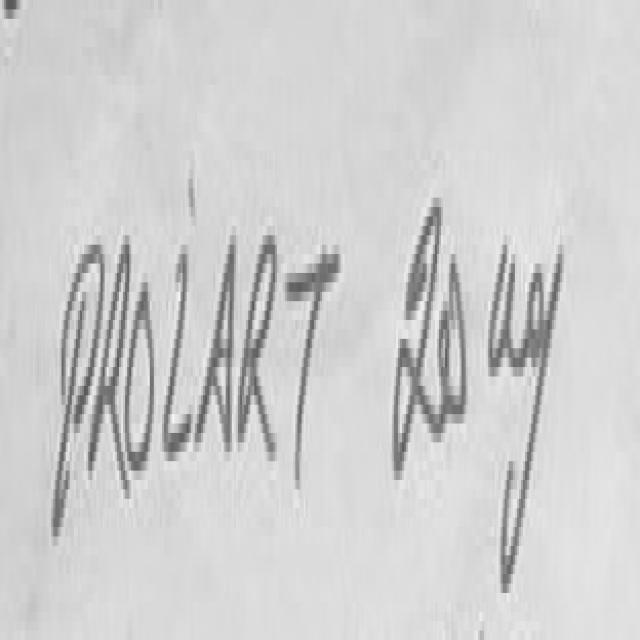0: (439, 254, 468, 414)
2: (394, 212, 443, 475)
A: (195, 235, 235, 469)
L: (160, 254, 194, 470)
O: (125, 282, 154, 466)
P: (51, 245, 102, 532)
R: (88, 235, 129, 494), (237, 235, 277, 469)
T: (287, 254, 339, 485)
g: (503, 245, 563, 588)
m: (486, 230, 528, 390)
